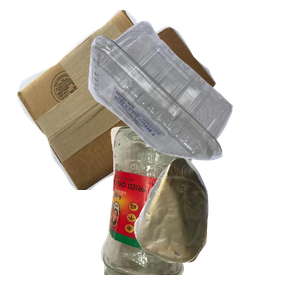cardboard: (14, 10, 222, 190)
glass: (98, 120, 286, 300)
plastic: (86, 18, 300, 171)
trash: (131, 155, 300, 300)
